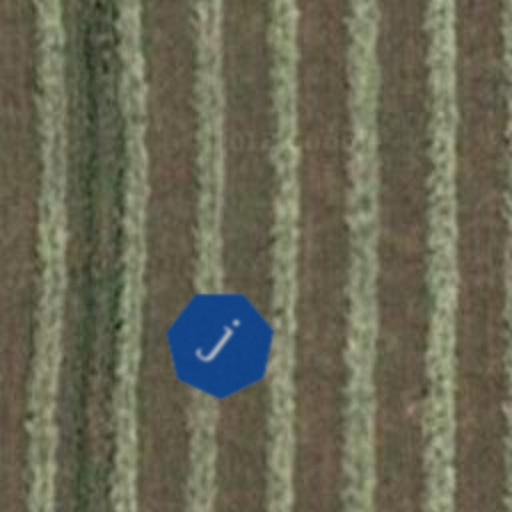heptagon: (140, 264, 300, 424)
